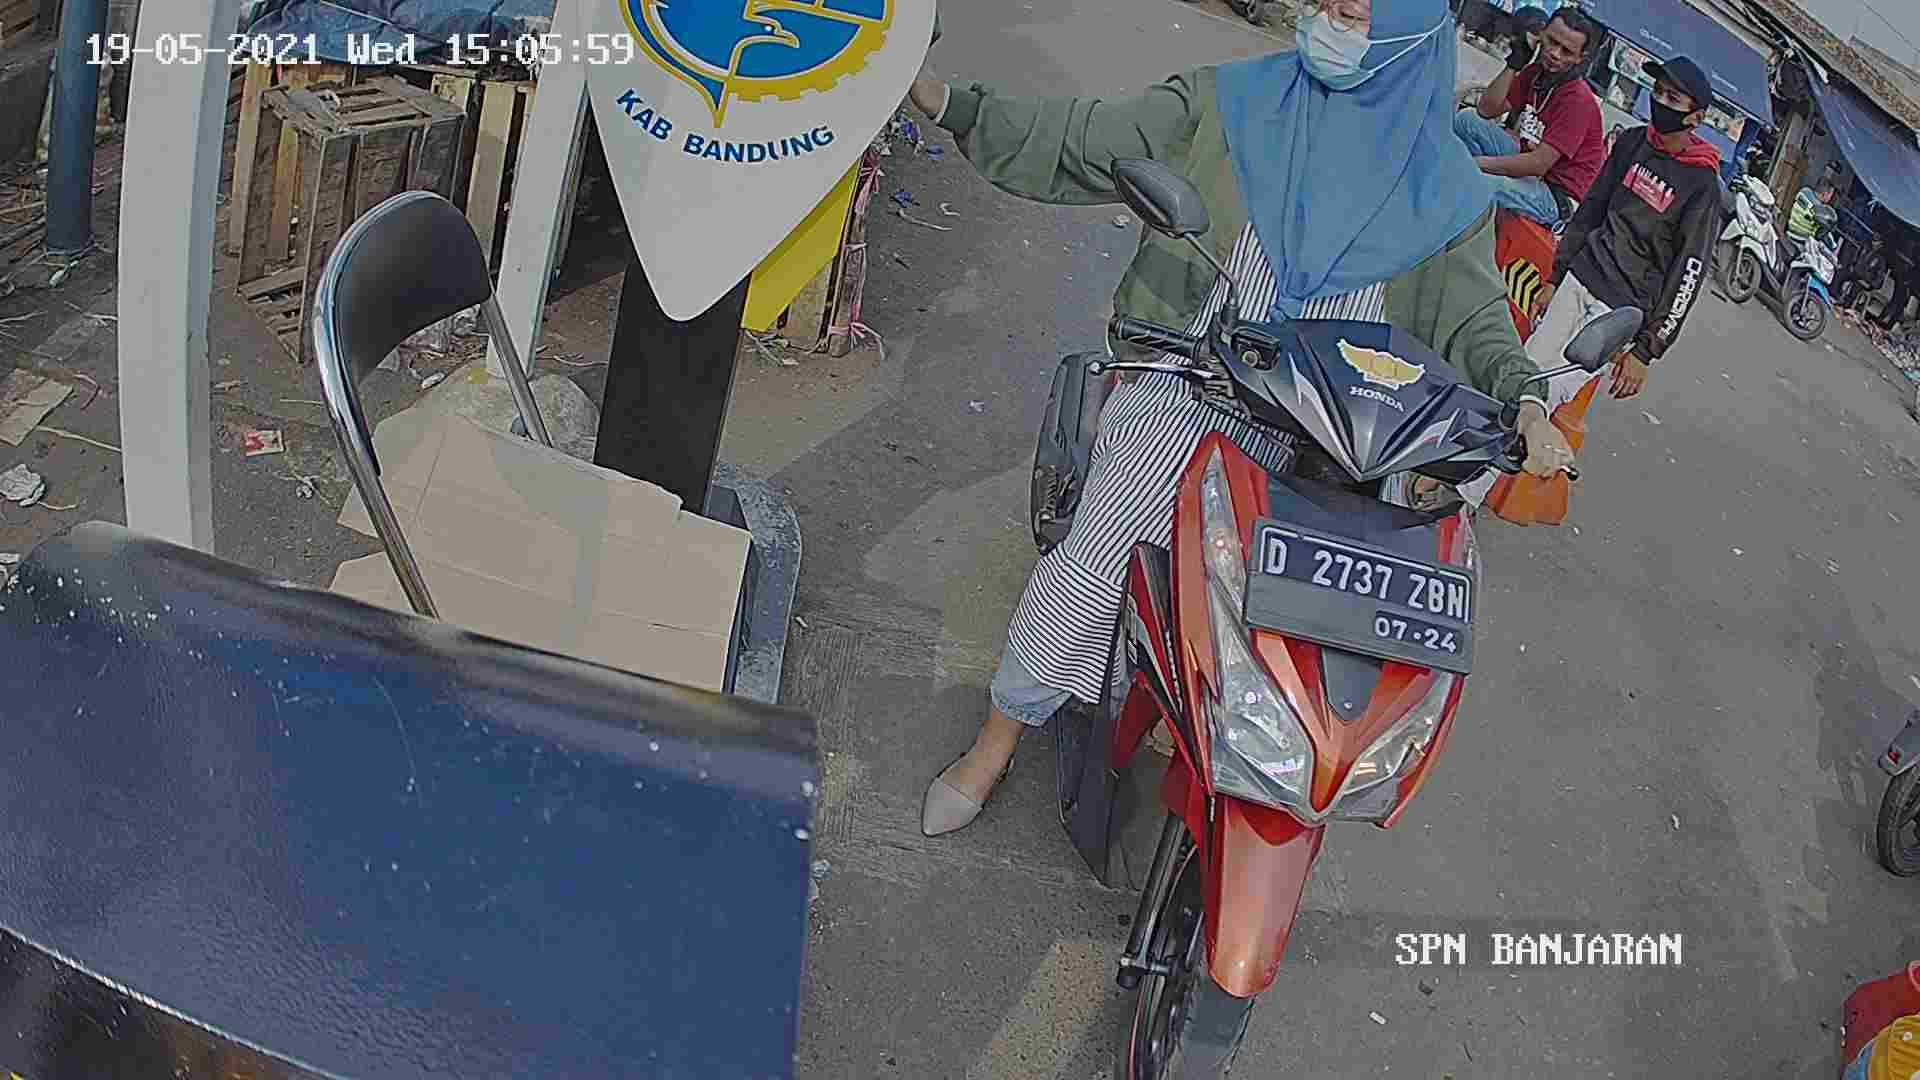motor: (1022, 262, 1489, 1080)
